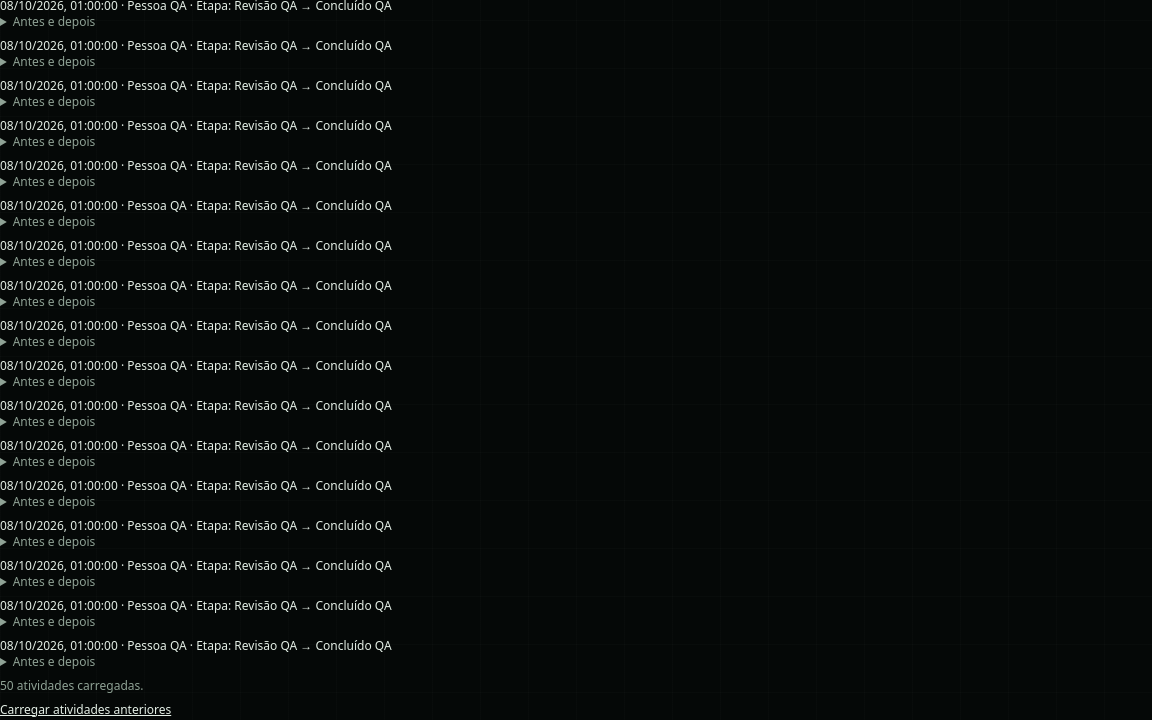
Scenario: M02: atividade paginada da tarefa, API simulada › erro na segunda página mantém a primeira e repete o mesmo cursor
(page scrolled)
Check: the text "50 atividades carregadas." is shown, box x1=0 y1=676 x2=144 y2=694
Click the button "Carregar atividades anteriores" at (86, 710), box x1=0 y1=702 x2=171 y2=718
(page scrolled)
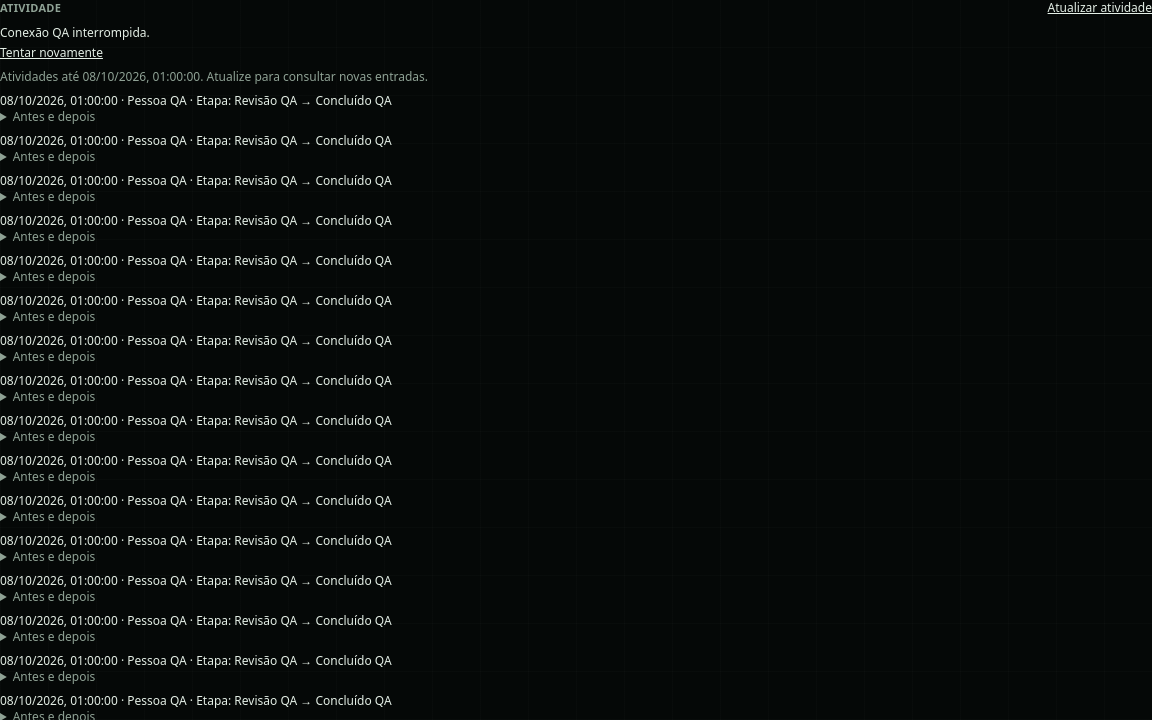
Check: the text "Conexão QA interrompida." is shown, box x1=0 y1=24 x2=150 y2=40
Click the button "Tentar novamente" at (51, 52), box x1=0 y1=44 x2=103 y2=60
(page scrolled)
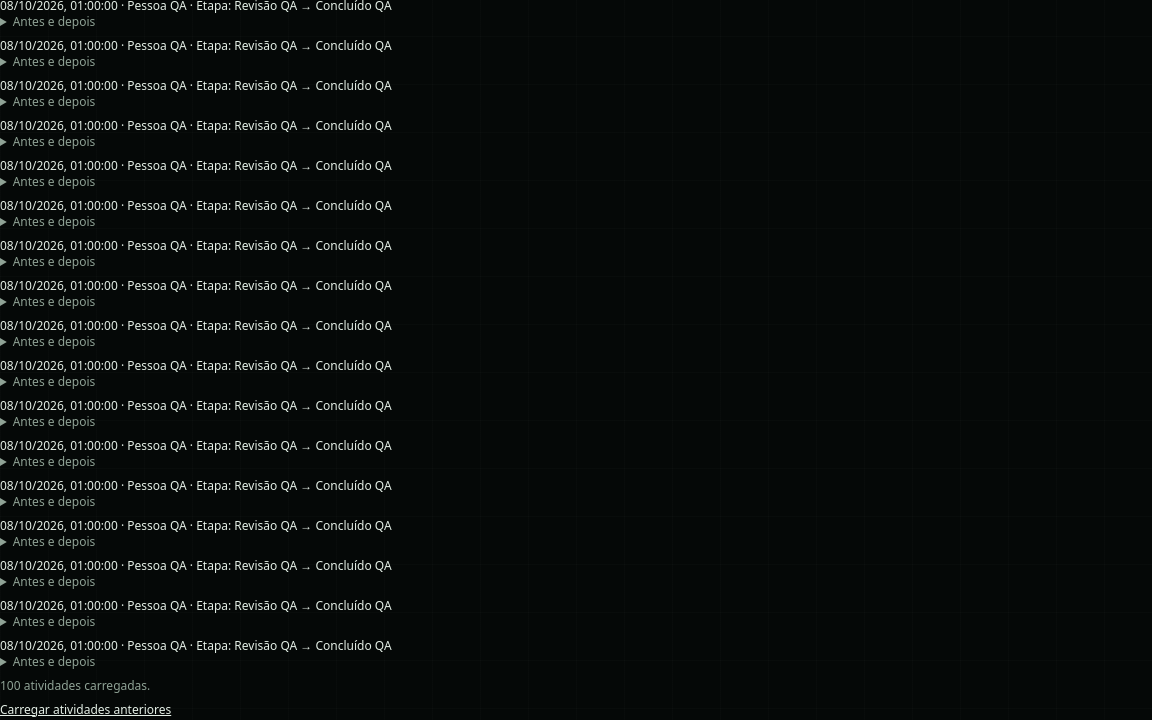
Check: the text "100 atividades carregadas." is shown, box x1=0 y1=676 x2=150 y2=694
